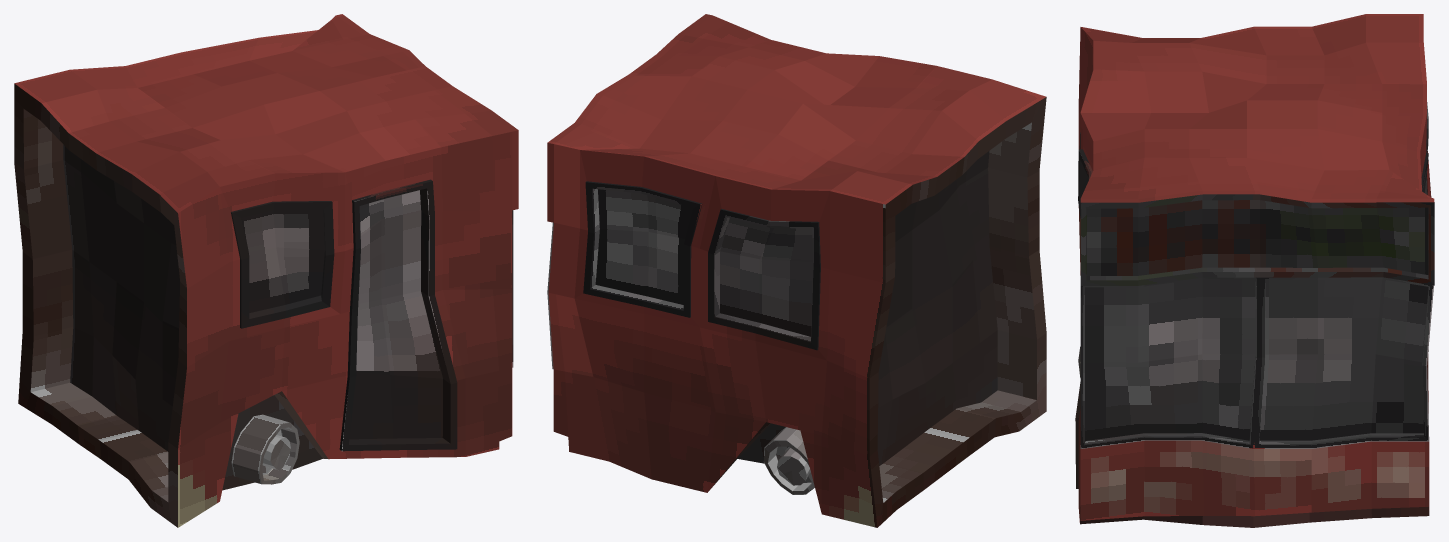
The model's file is BondiFrente v2.glb.
The picture shows the model from 3 angles, left to right: view 1: azimuth 30°, elevation 25°; view 2: azimuth 150°, elevation 25°; view 3: azimuth 270°, elevation 25°; orthographic projection. The views are drawn at different scales.
Visible parts, largest first — view 1: BondiFrente; view 2: BondiFrente; view 3: BondiFrente.
Part boxes in pixels (x1=…): BondiFrente: x1=14, y1=14, x2=518, y2=527; BondiFrente: x1=547, y1=14, x2=1046, y2=527; BondiFrente: x1=1075, y1=14, x2=1434, y2=527.
Size of the model in its own units: 2.05 by 1.88 by 1.76.
1 material, 1 textured.
